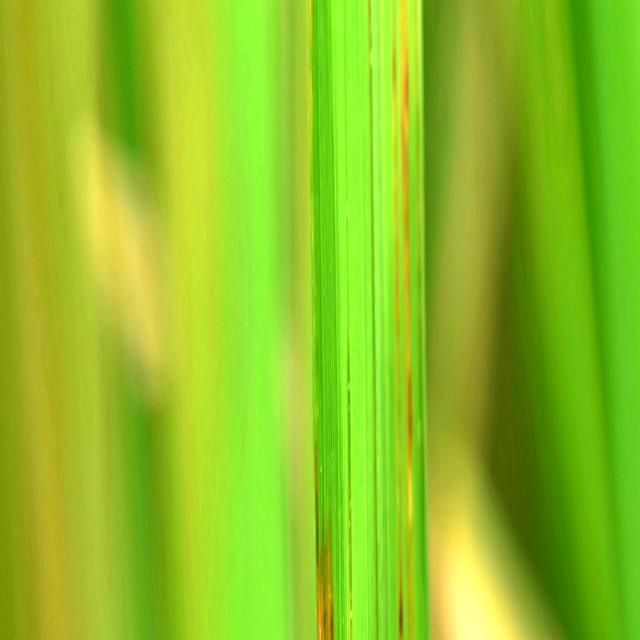BLS: (400, 0, 414, 640), (391, 0, 403, 640), (367, 1, 378, 640), (315, 440, 334, 640), (346, 334, 353, 640)
